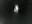person: (14, 5, 21, 16)
